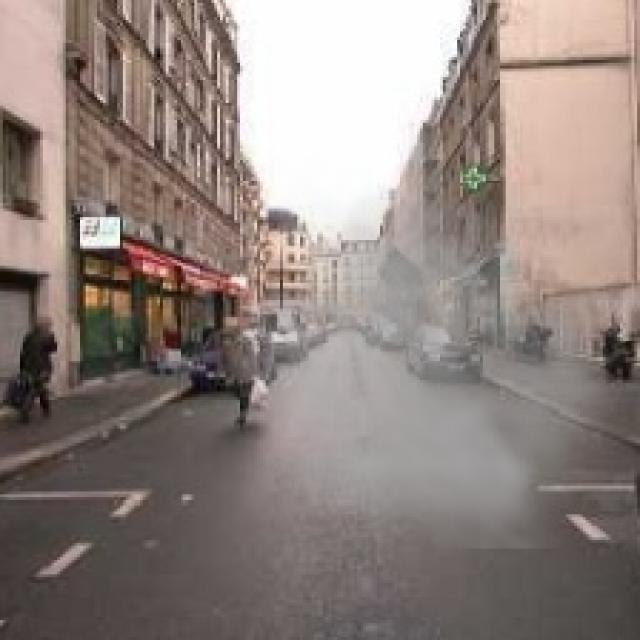Smoke: (214, 148, 632, 548)
